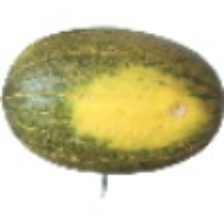honeydew: (26, 64, 167, 200)
